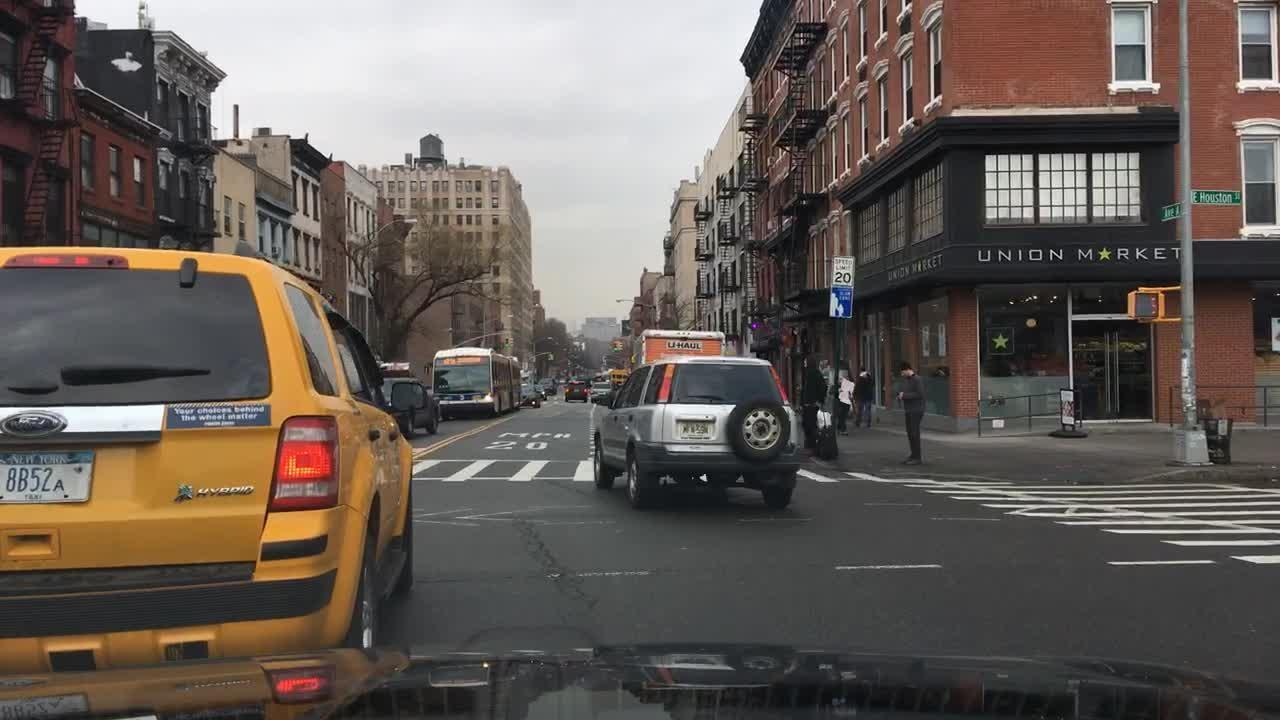ford: (1, 396, 90, 448)
